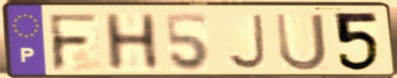5: (330, 10, 384, 73), (163, 11, 213, 74)
F: (46, 12, 102, 74)
H: (100, 11, 163, 73)
J: (225, 13, 269, 72)
U: (272, 11, 330, 73)
